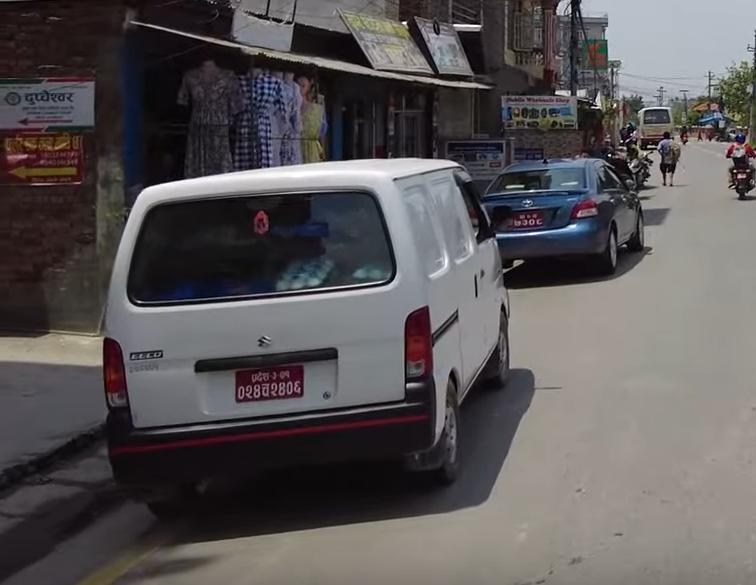bus: (636, 103, 677, 147)
van: (84, 152, 517, 512), (482, 144, 664, 277)
